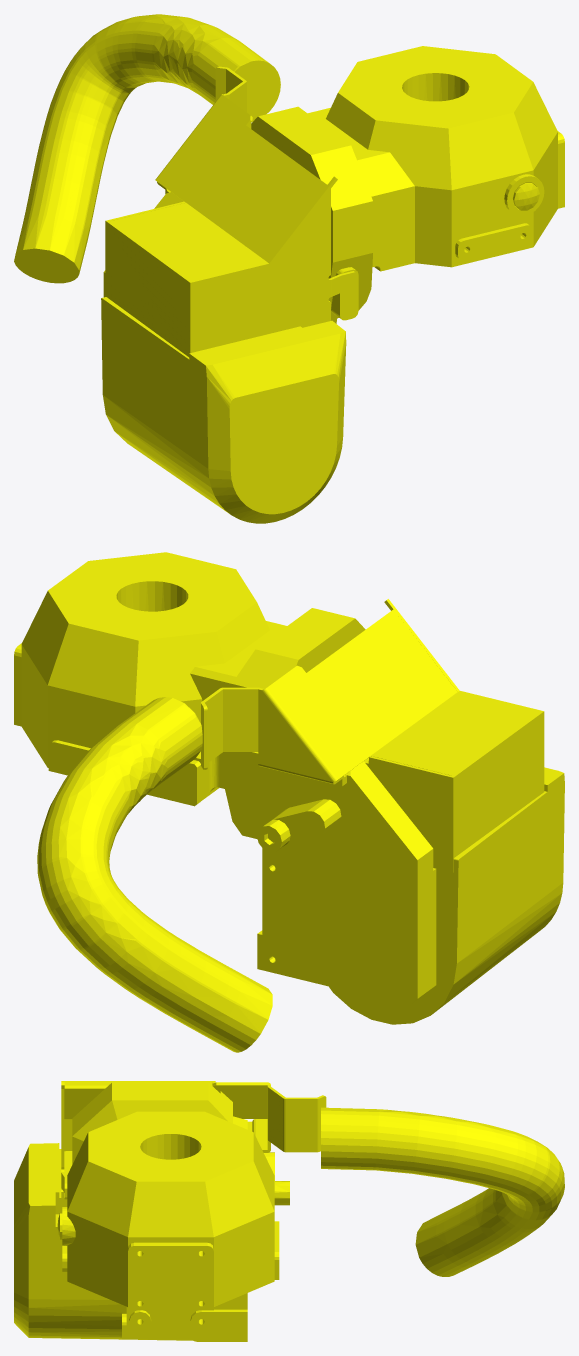
The picture shows the model from 3 angles, top to bottom: view 1: azimuth 30°, elevation 25°; view 2: azimuth 150°, elevation 25°; view 3: azimuth 270°, elevation 25°; orthographic projection. The views are drawn at different scales.
Parts seen in each view (by area): view 1: node; view 2: node; view 3: node.
Part boxes in pixels (x1=…): node: x1=14, y1=14, x2=564, y2=523; node: x1=14, y1=552, x2=564, y2=1052; node: x1=14, y1=1081, x2=564, y2=1341.
Bounding box in the file's own units: 356 × 263 × 449.
